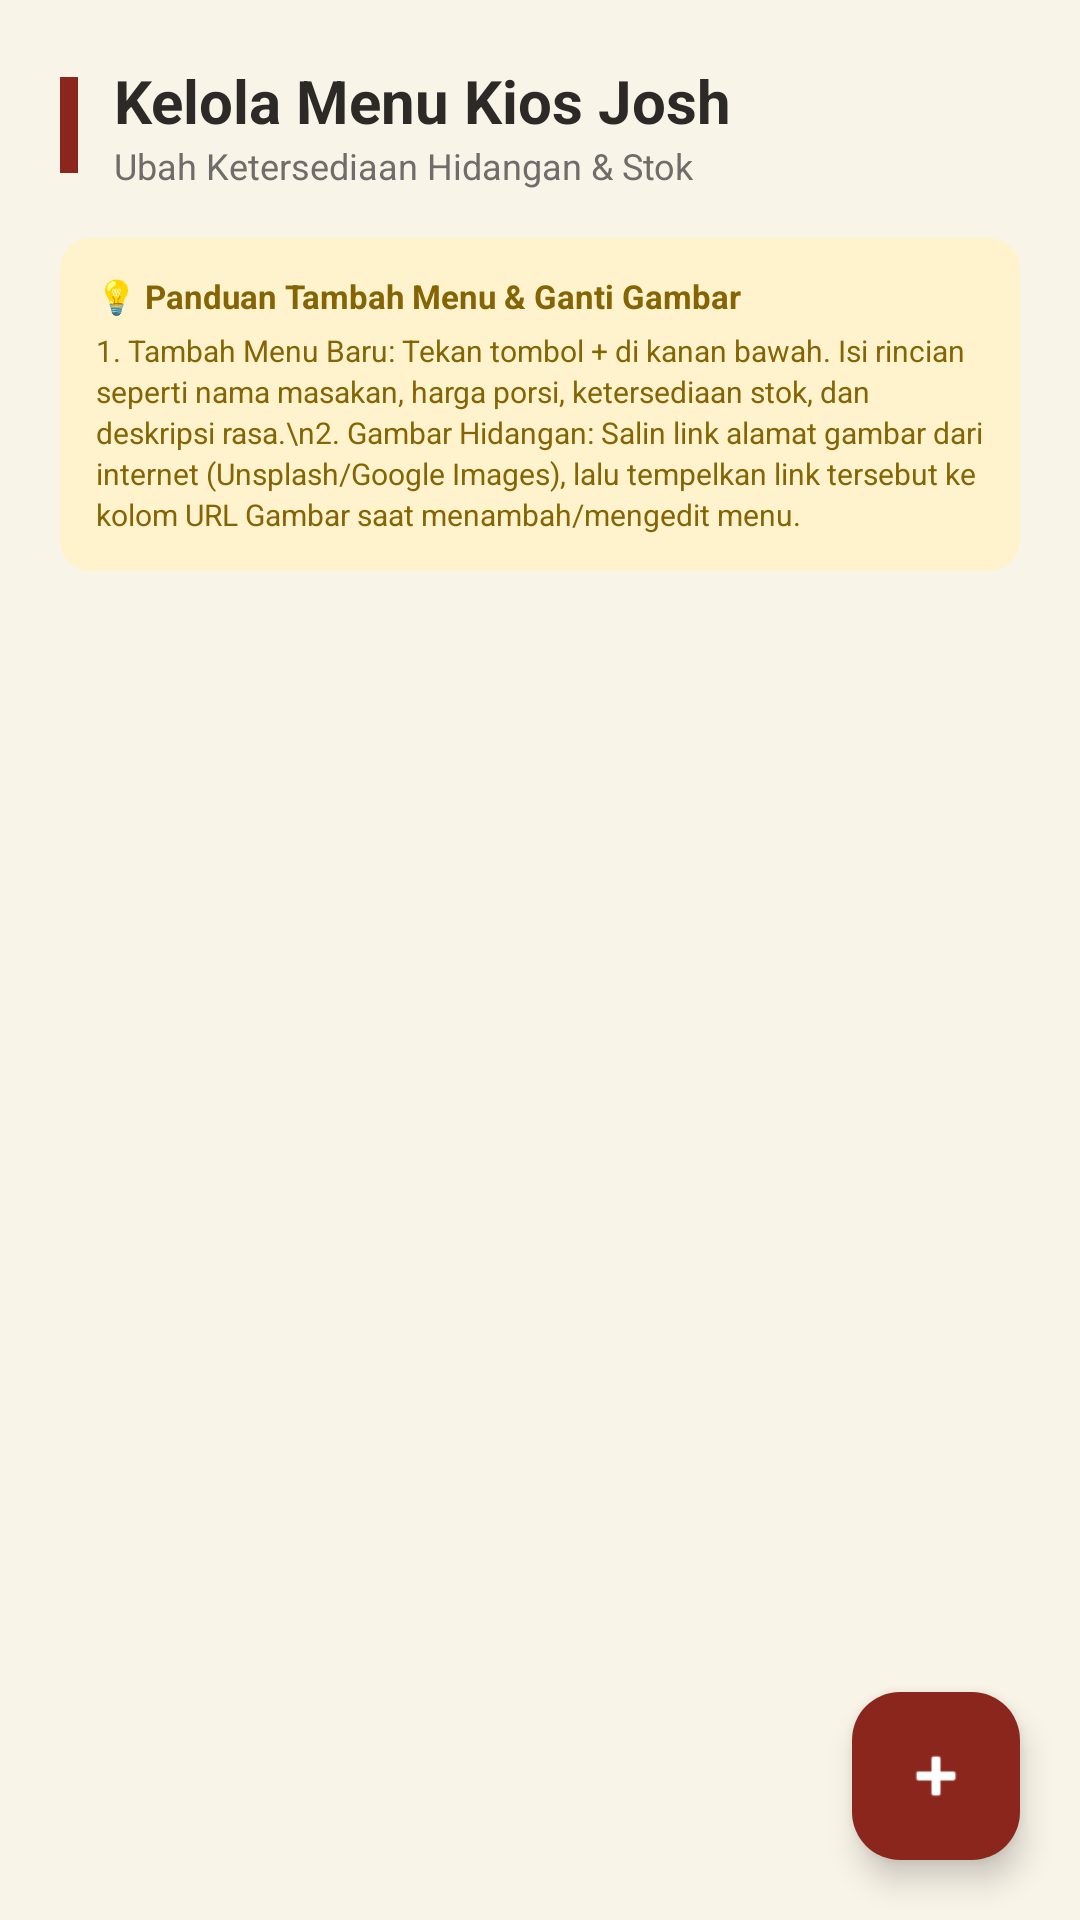

Where icons sit on this 1080*1920 app screen, as (x1, y1, x2, y2):
Add Product: (852, 1692, 1020, 1860)
